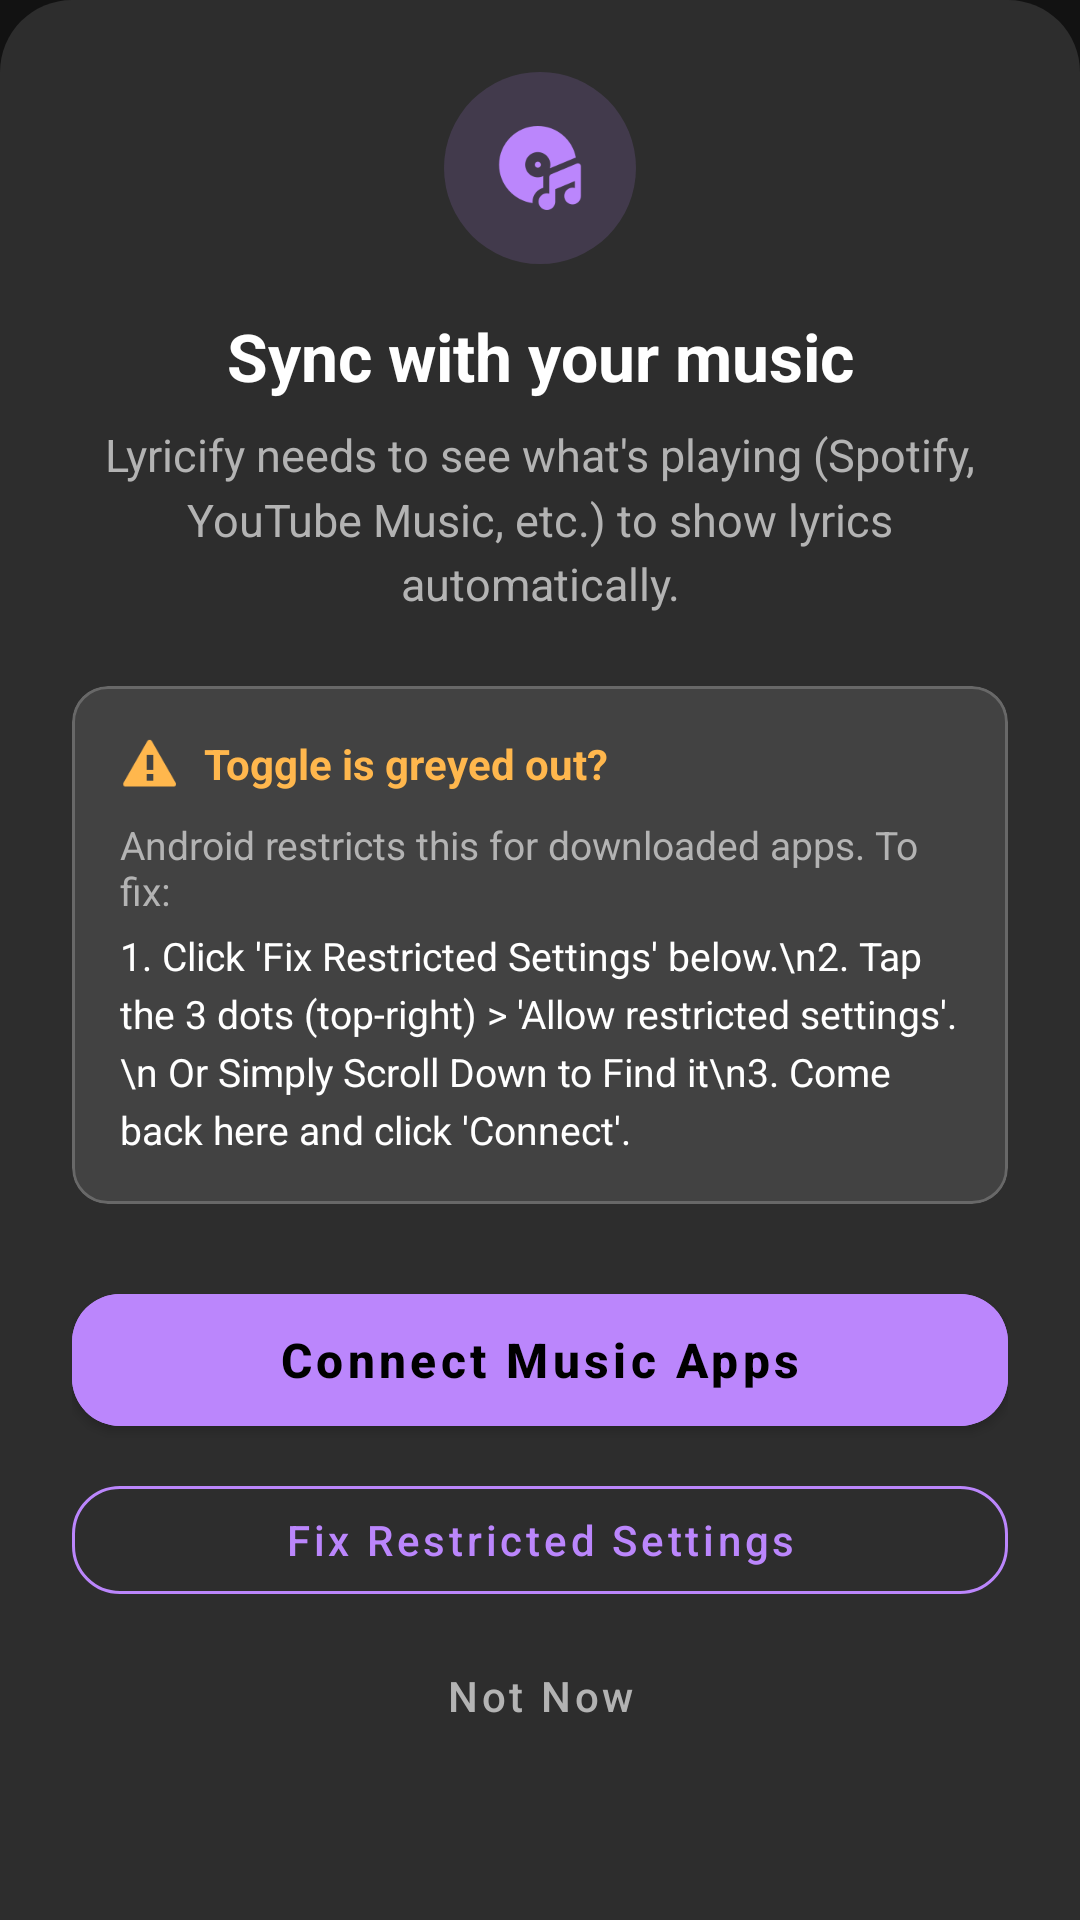

Named icons in this screenshot (1080px x 1920px) and their centers, [x,y]:
music note: [540,168]
warning: [149,763]
